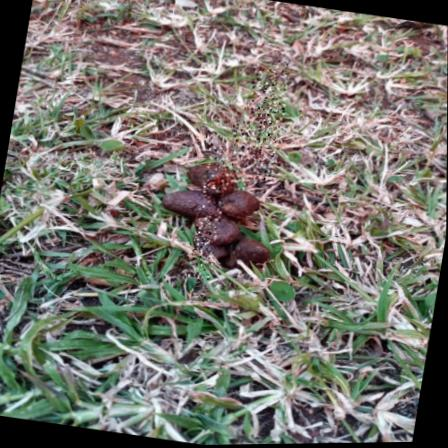dog-poop: (159, 153, 289, 278)
